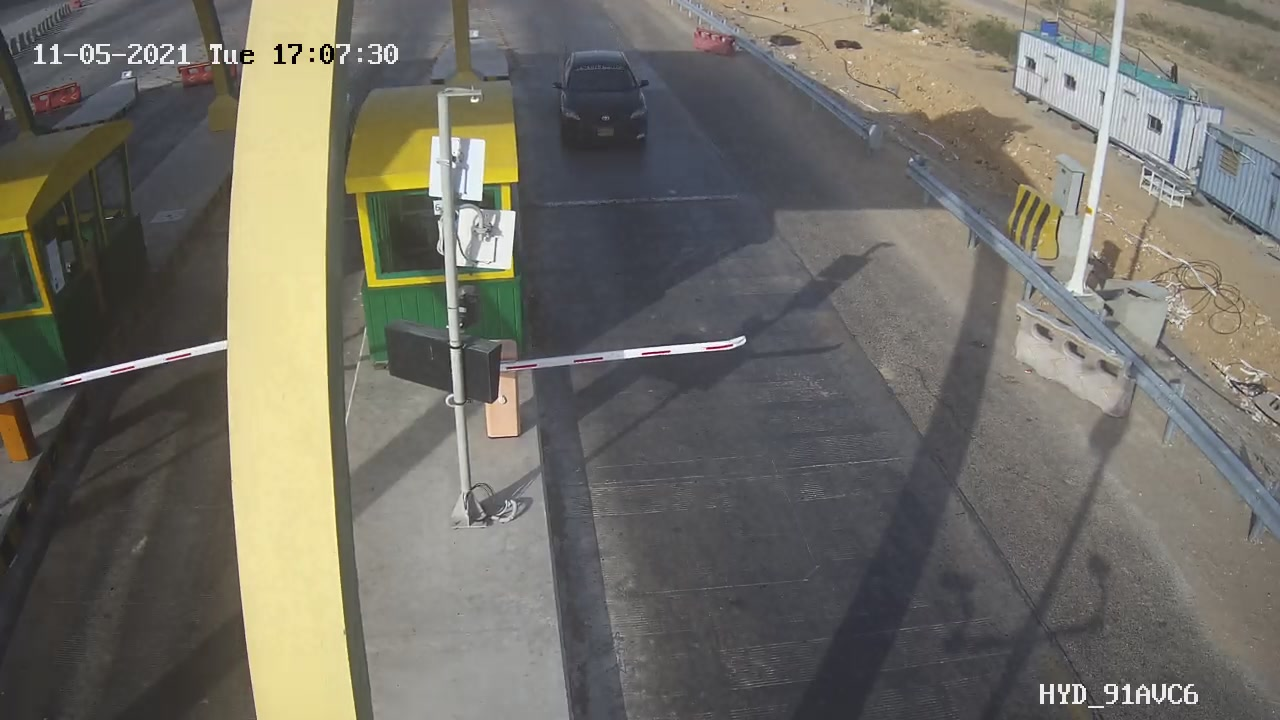F1: (538, 40, 672, 164)
